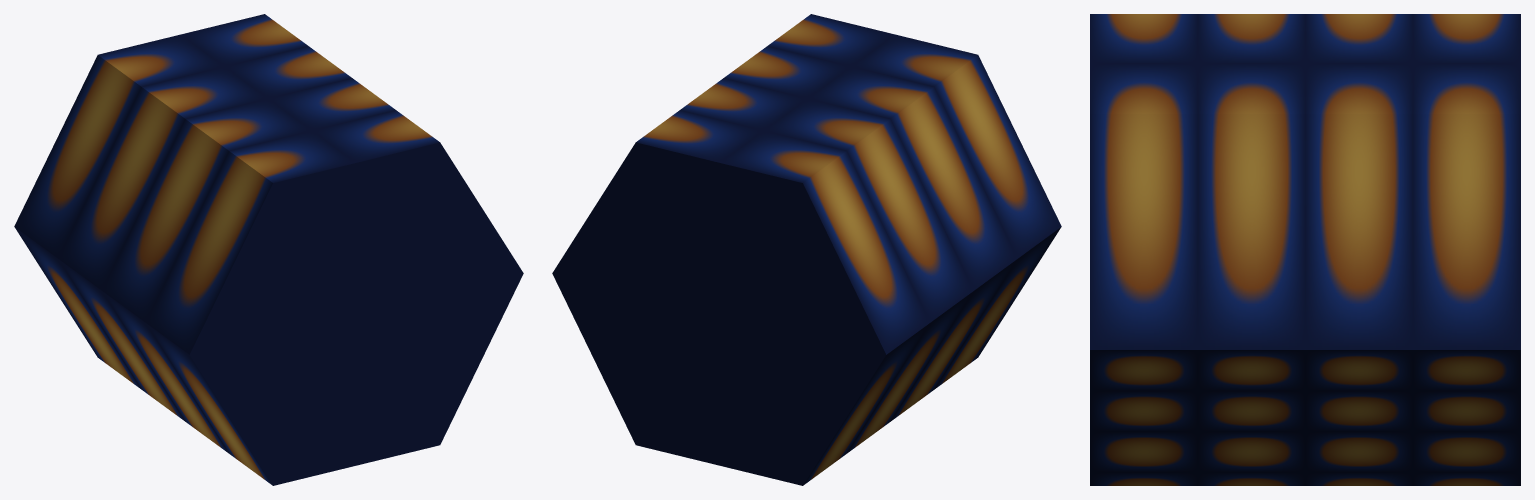
File: hexprism-copper-c2.glb
The picture shows the model from 3 angles, left to right: view 1: azimuth 30°, elevation 25°; view 2: azimuth 150°, elevation 25°; view 3: azimuth 270°, elevation 25°; orthographic projection. The views are drawn at different scales.
Visible parts, largest first — view 1: world; view 2: world; view 3: world.
Boxes of the visible parts, x1,y1,x2,y2 form: world: (14, 14, 523, 485); world: (552, 14, 1061, 485); world: (1090, 14, 1520, 485).
Bounding box in the file's own units: 1.1 × 0.9526 × 1.
1 material, 1 textured.
